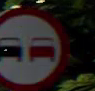No overtake: (0, 6, 69, 90)
